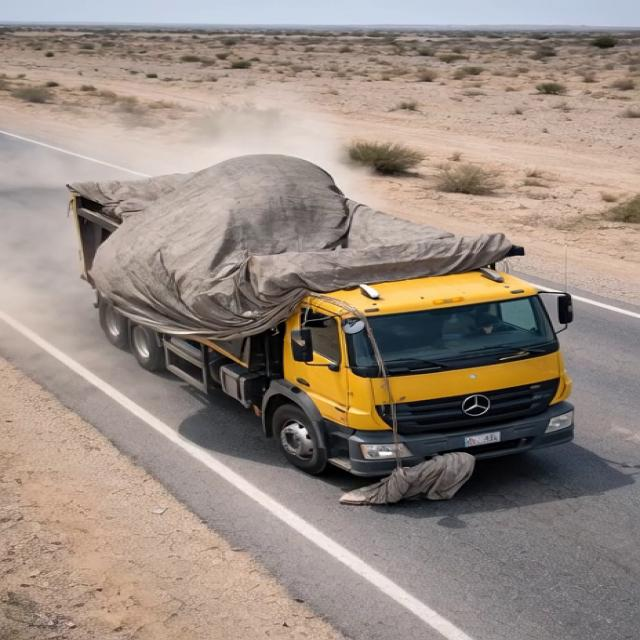trailer: (51, 161, 548, 271)
truck: (24, 149, 588, 472)
